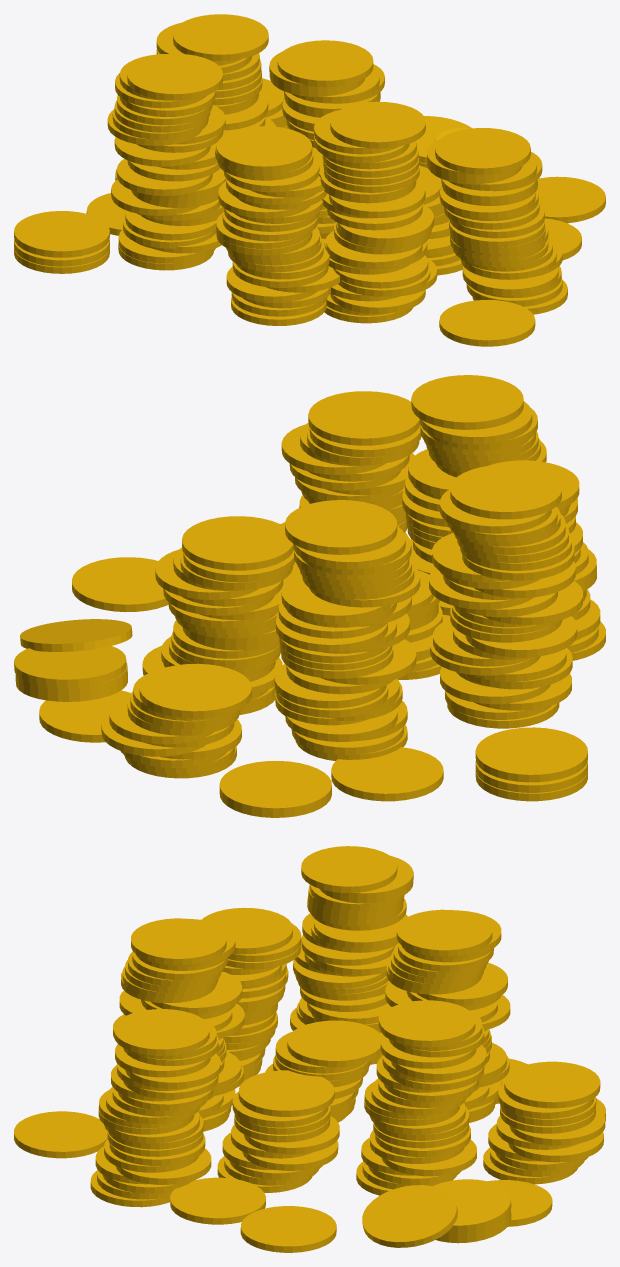
The model's file is gold .fbx.
3 renders of one model, top to bottom at view 1: azimuth 30°, elevation 25°; view 2: azimuth 150°, elevation 25°; view 3: azimuth 270°, elevation 25°, orthographic. The views are drawn at different scales.
Visible parts, largest first — view 1: Cylinder.005; view 2: Cylinder.005; view 3: Cylinder.005.
Part boxes in pixels (left/top/right/bottom): Cylinder.005: left=14, top=14, right=605, bottom=346; Cylinder.005: left=14, top=375, right=605, bottom=817; Cylinder.005: left=14, top=846, right=605, bottom=1252.
Size of the model in its own units: 99.94 by 39.29 by 102.
